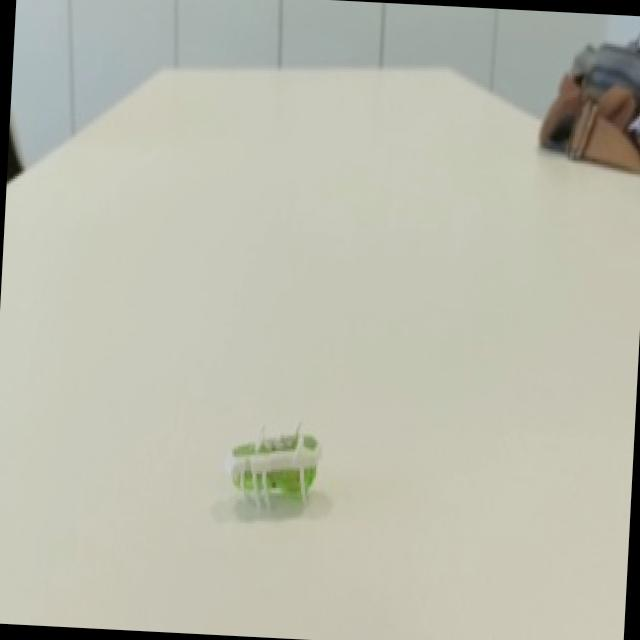4_NanoBug_Blanco: (180, 386, 360, 553)
